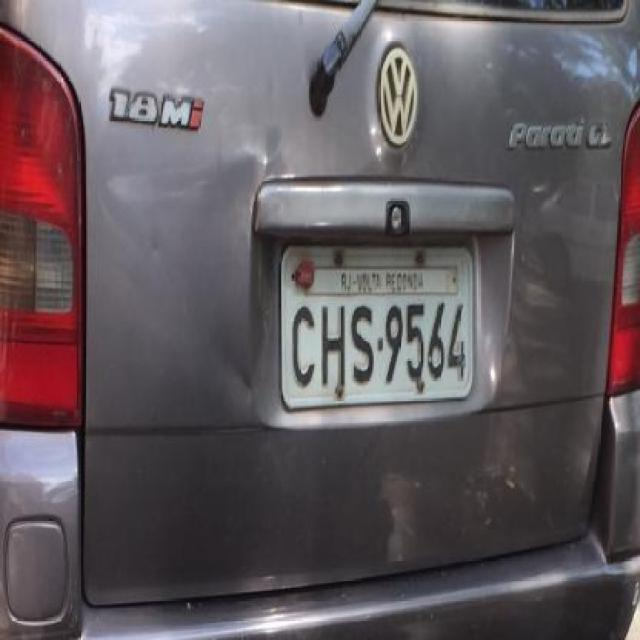old_plate: (270, 236, 486, 417)
